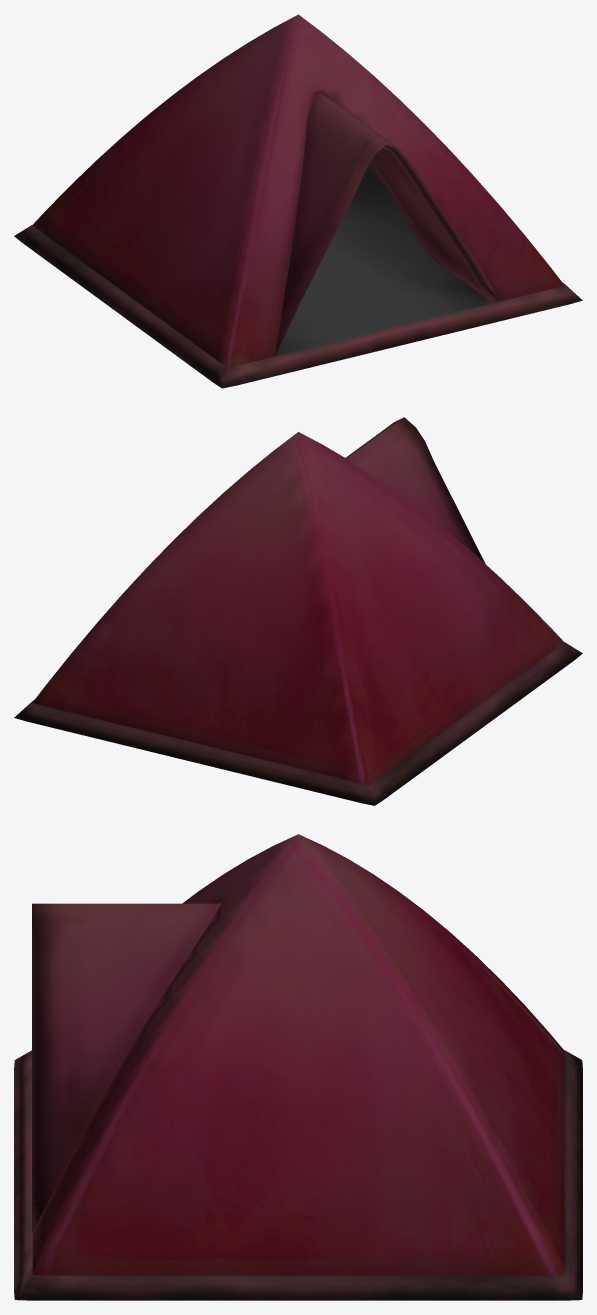
Rendered from Tenda1.fbx.
The picture shows the model from 3 angles, top to bottom: view 1: azimuth 30°, elevation 25°; view 2: azimuth 150°, elevation 25°; view 3: azimuth 270°, elevation 25°; orthographic projection. The views are drawn at different scales.
Parts seen in each view (by area): view 1: Plane.004; view 2: Plane.004; view 3: Plane.004.
Boxes of the visible parts, bbox=[...] form: Plane.004: bbox=[14, 14, 582, 388]; Plane.004: bbox=[14, 417, 582, 805]; Plane.004: bbox=[14, 834, 582, 1300].
Bounding box in the file's own units: 6042 × 4078 × 6042.
1 material, 1 textured.
